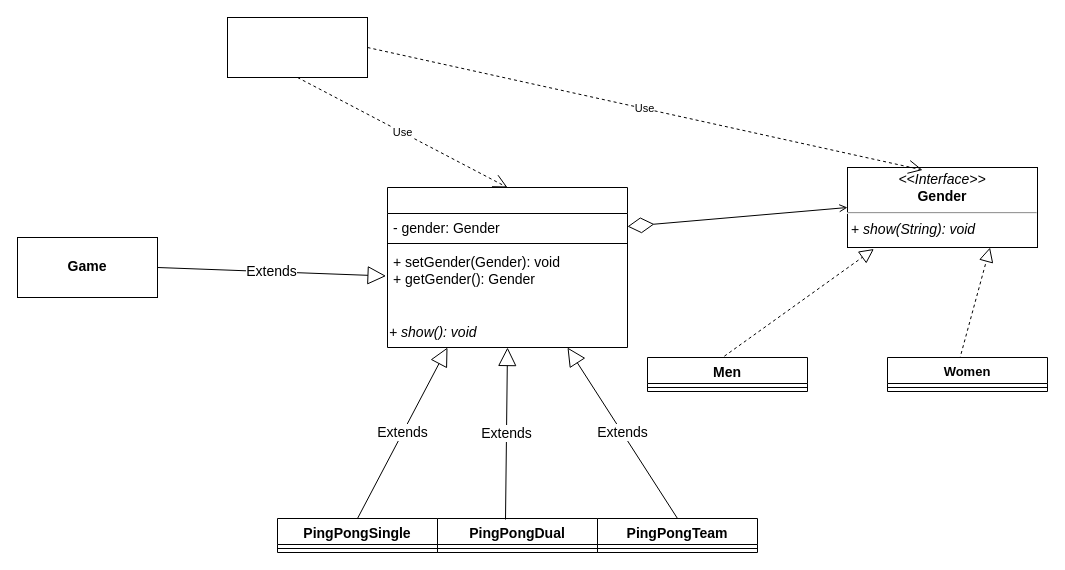
Image size: 1065x570. Some labels were removed from this diagram. Here are the shapes that lost their labels. From the top down, the box of each, then its label:
(226, 16, 368, 78): BridgeTest
(386, 186, 628, 348): PingPong
